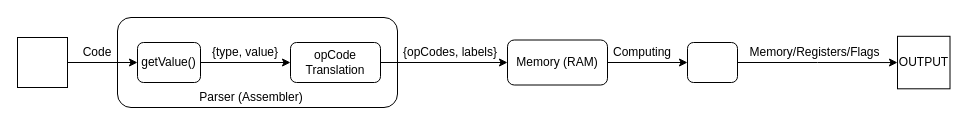
Some shapes in this 968 by 133 pixel diagram are drawn without their labels. Here are the shapes that lost their labels. From the top down, the centre of each, then its label:
At (x=42, y=62): "INPUT".
At (x=712, y=62): "CPU".
